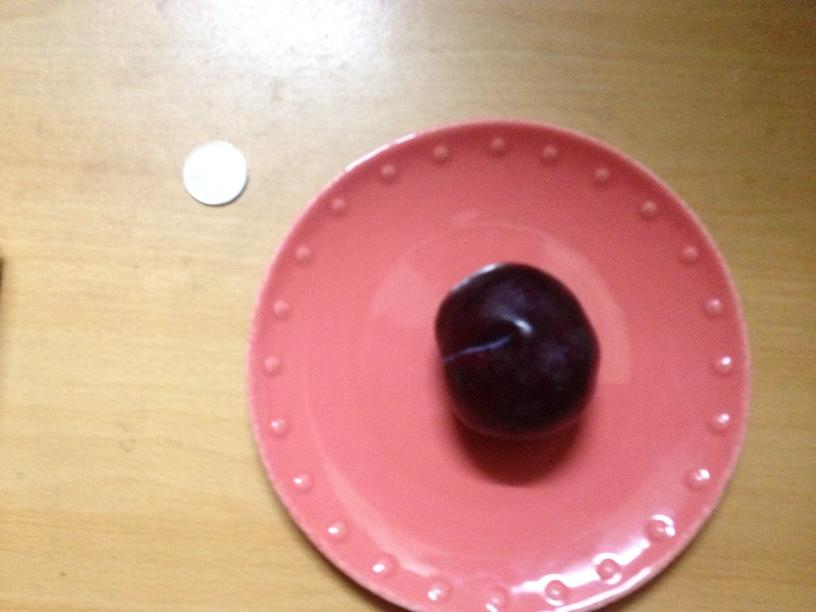coin: (183, 143, 251, 204)
plum: (429, 263, 602, 431)
